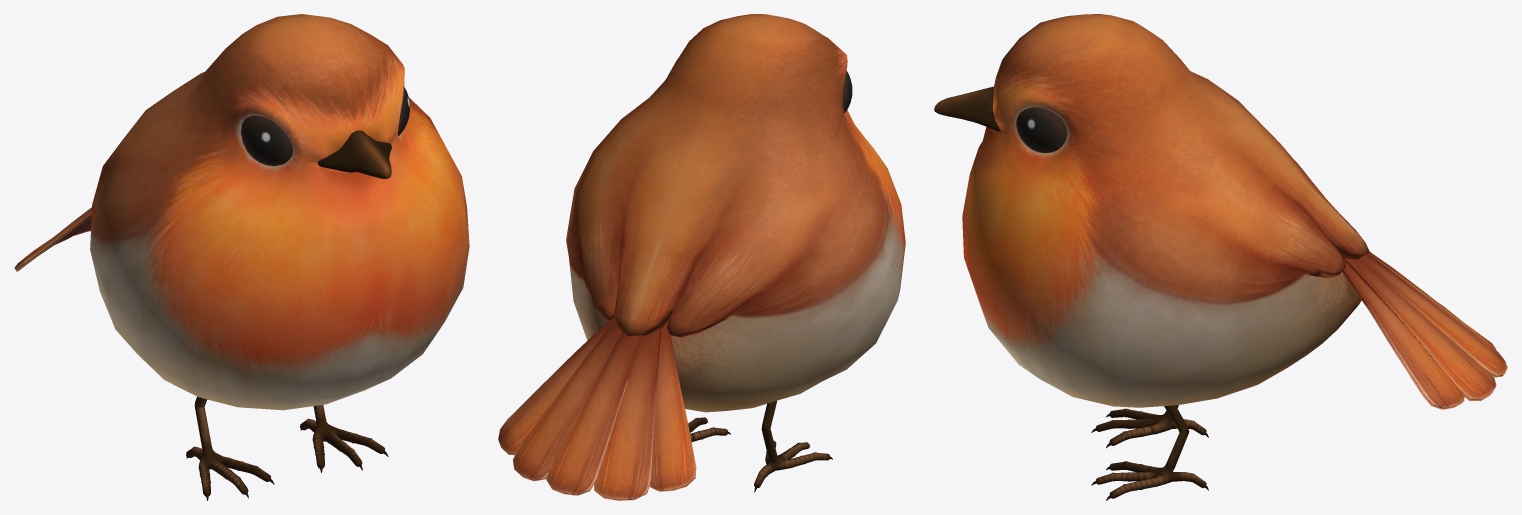
File: Bird.fbx
3 renders of one model, left to right at view 1: azimuth 30°, elevation 25°; view 2: azimuth 150°, elevation 25°; view 3: azimuth 270°, elevation 25°, orthographic. The views are drawn at different scales.
Visible parts, largest first — view 1: BirdOrange; view 2: BirdOrange; view 3: BirdOrange.
Part boxes in pixels (x1,y1,x2,y2): BirdOrange: (14, 14, 469, 500); BirdOrange: (498, 14, 905, 500); BirdOrange: (934, 14, 1507, 500).
Bounding box in the file's own units: 61.59 × 82.6 × 97.75.
